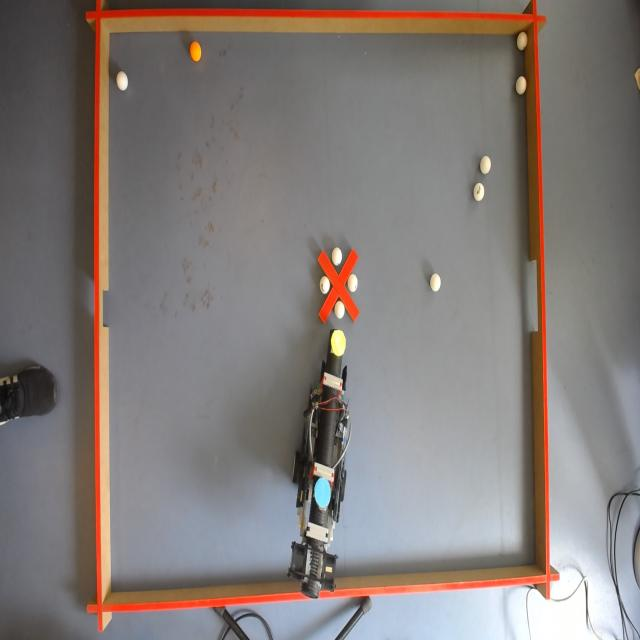orange: (188, 40, 204, 61)
robot: (293, 328, 350, 598)
robot-front: (331, 330, 347, 358)
robot-rear: (311, 477, 329, 507)
white: (116, 71, 128, 94), (516, 32, 529, 52), (332, 301, 345, 321), (430, 272, 442, 293), (331, 249, 344, 268), (515, 76, 527, 96), (479, 156, 491, 174), (474, 185, 485, 202), (348, 276, 359, 290), (320, 277, 330, 292)
